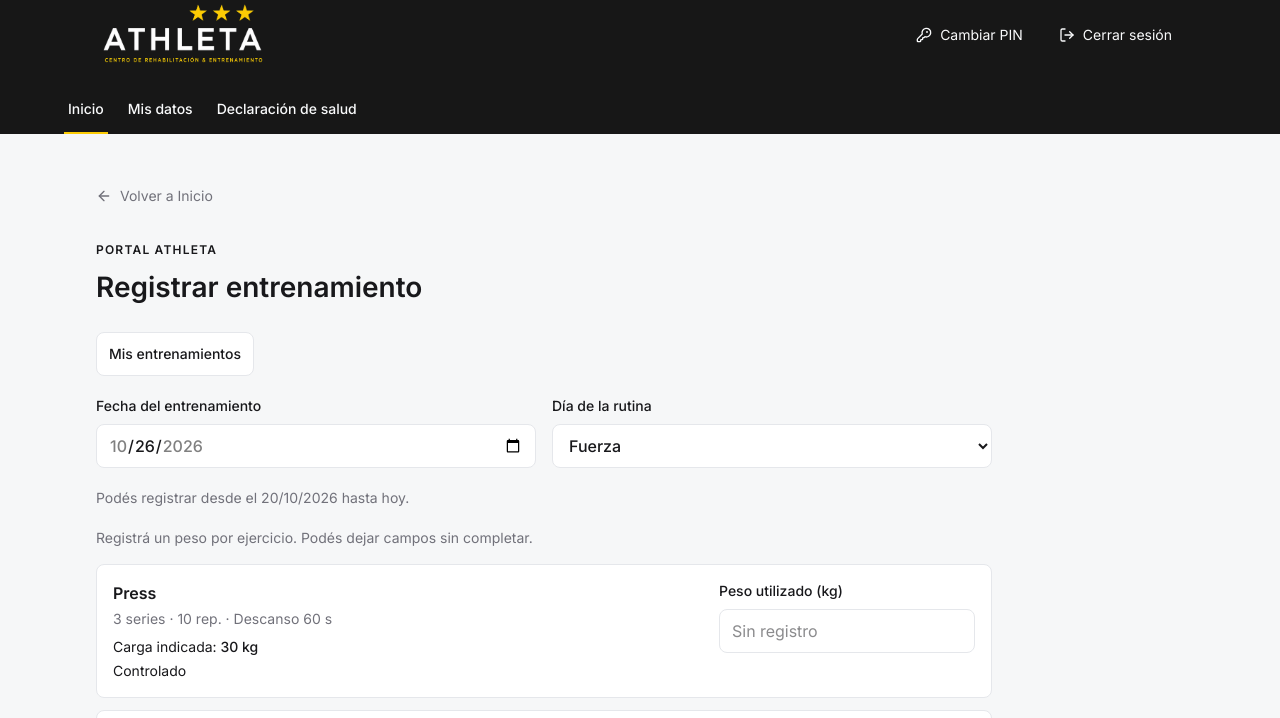
Test: retains entered weights on errors, prevents repeated submits, and opens a duplicate for correction
Type "35,25" into the 1st field labelled "Peso utilizado (kg)". click: (847, 631)
box: [719,609,975,653]
(page scrolled)
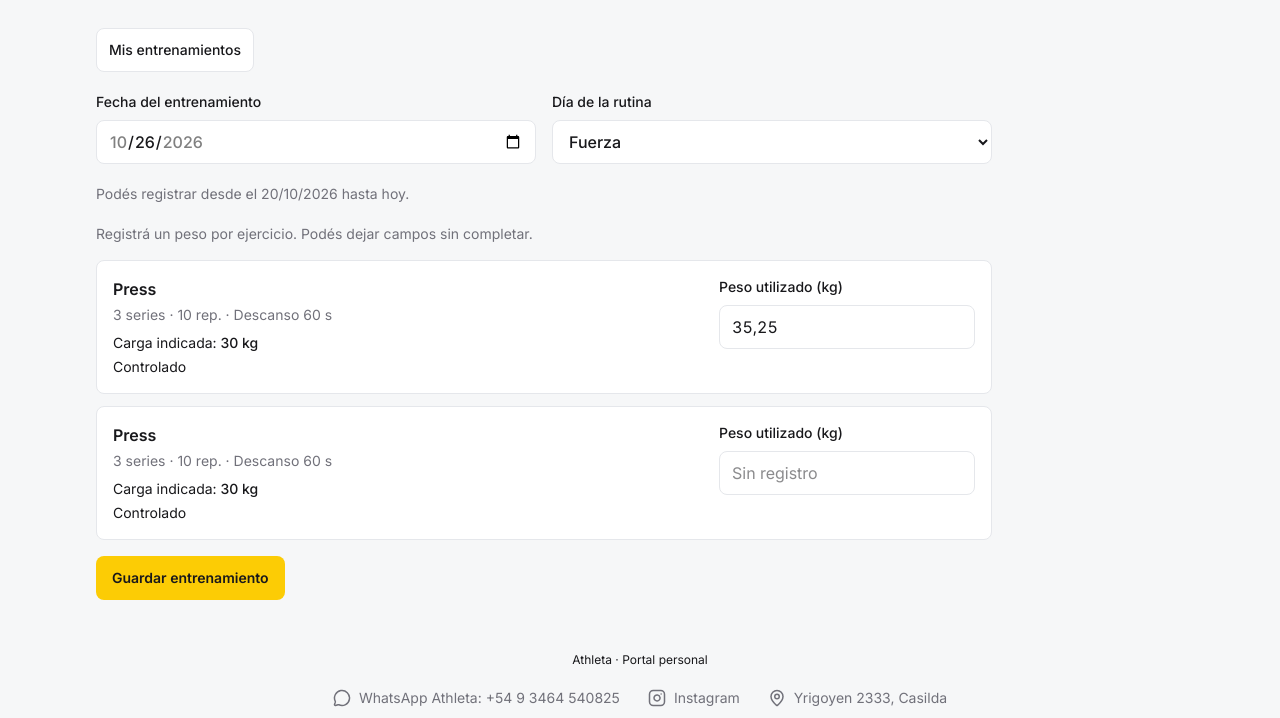
Click the button "Guardar entrenamiento". click: (190, 578)
box: [96,556,285,600]
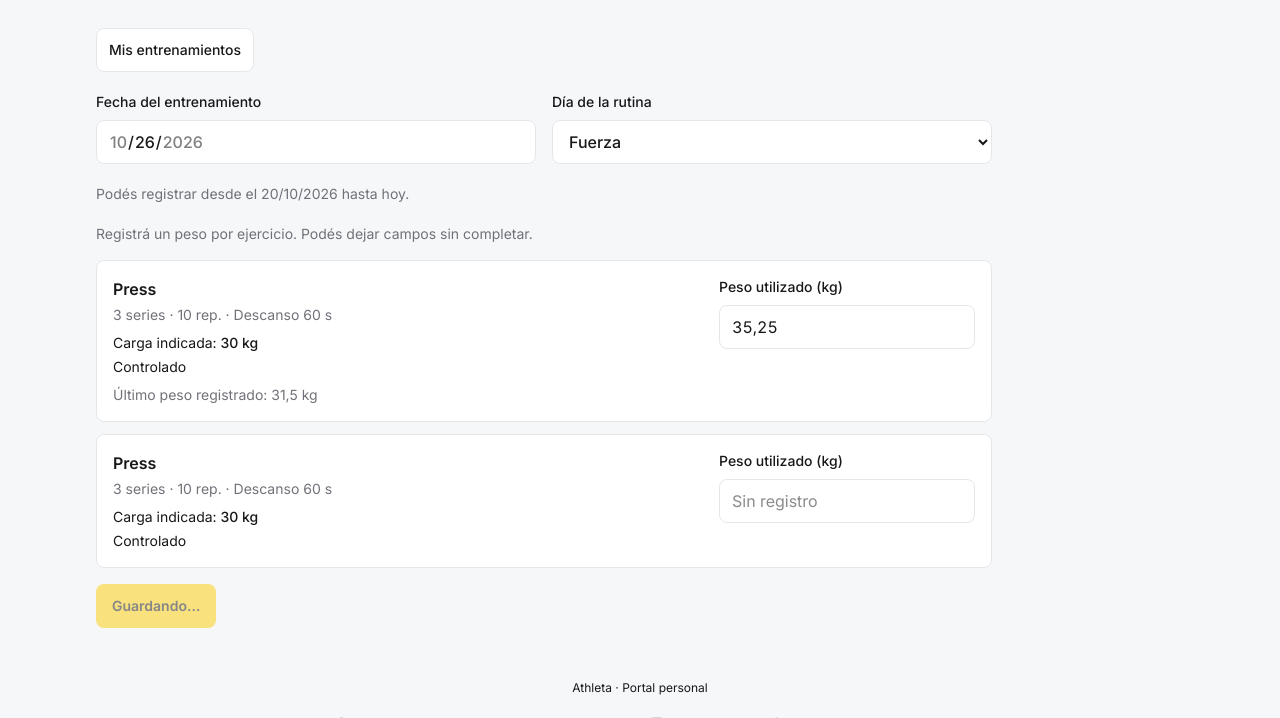
Check: the button "Guardando…" is disabled
Click the button "Guardando…". click: (156, 606)
box: [96,584,216,628]
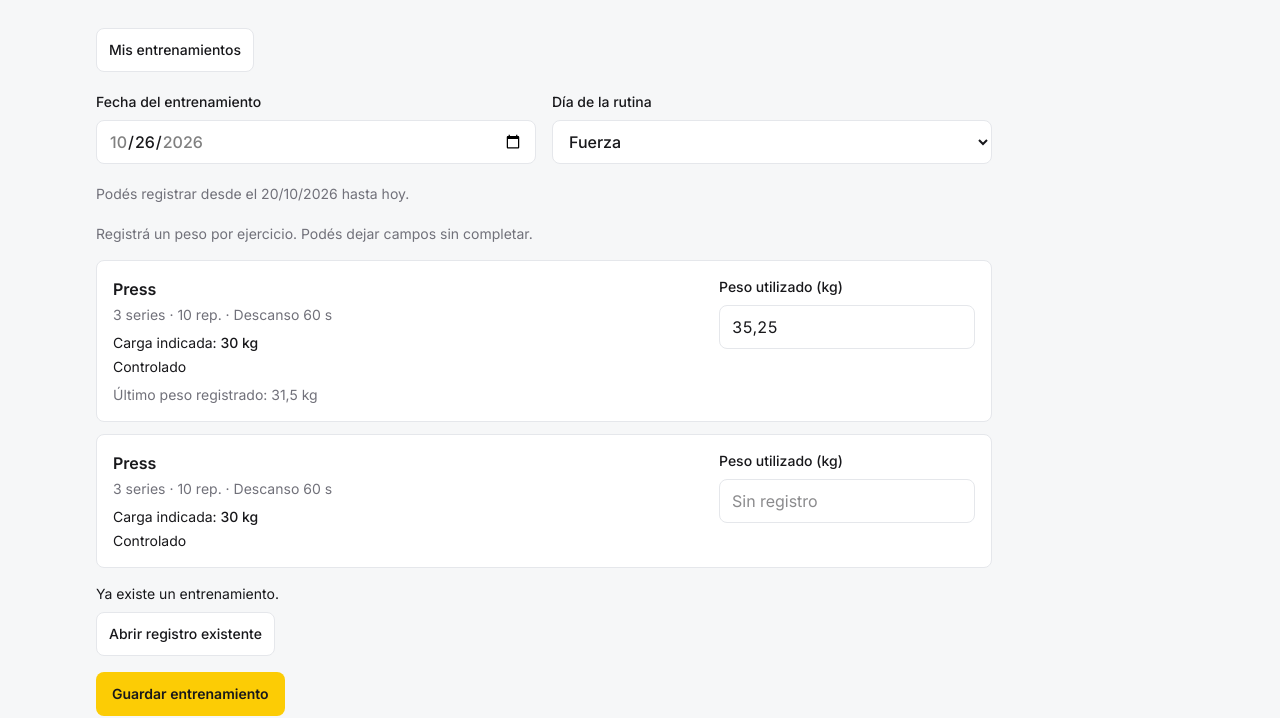
Check: the text "Ya existe un entrenamiento." is shown, box [96,585,279,602]
